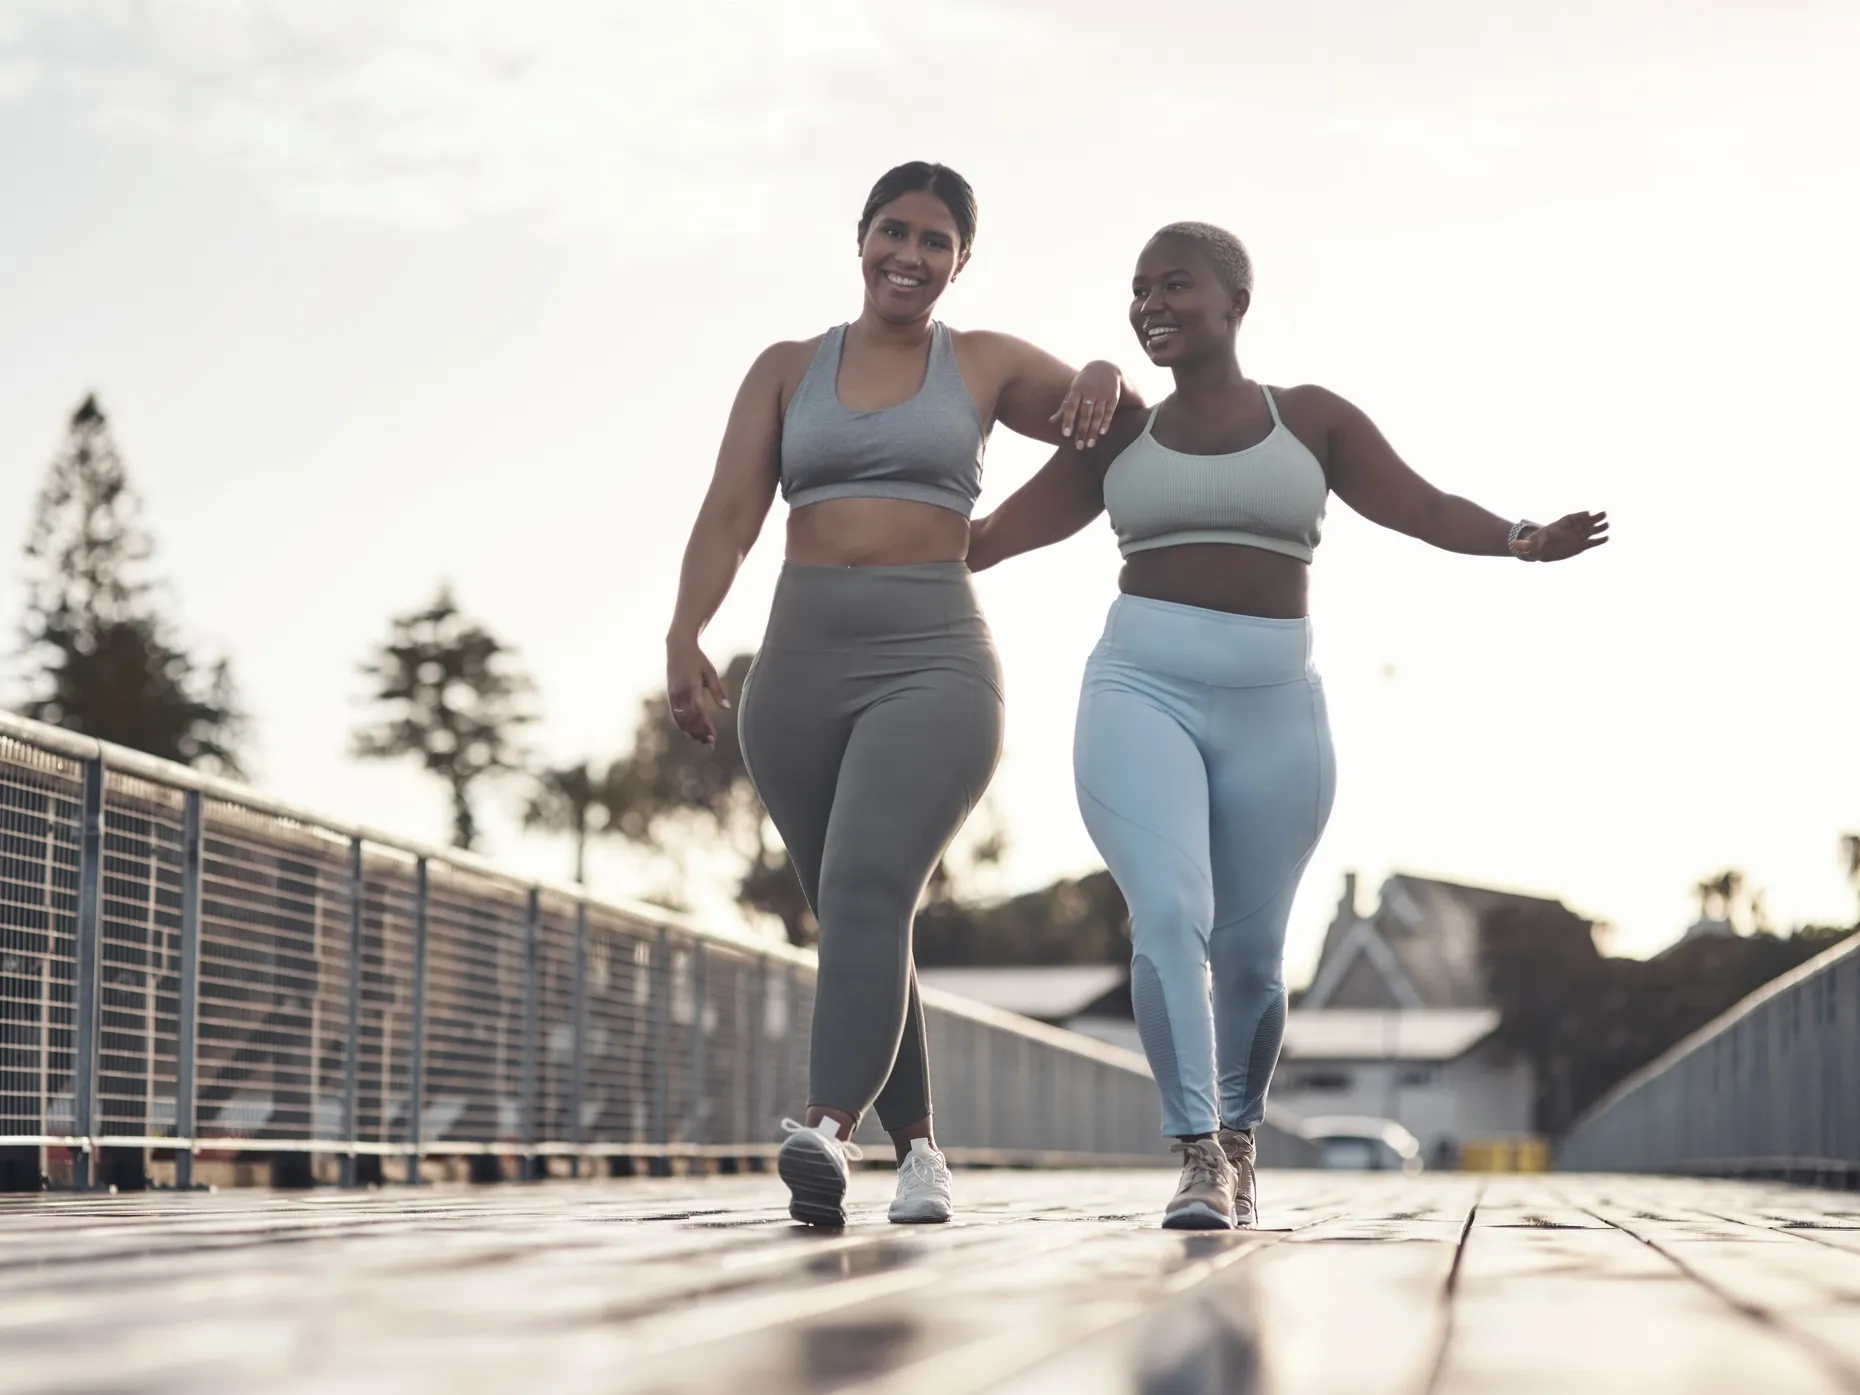person: (1005, 165, 1616, 1246), (637, 141, 1139, 1256)
